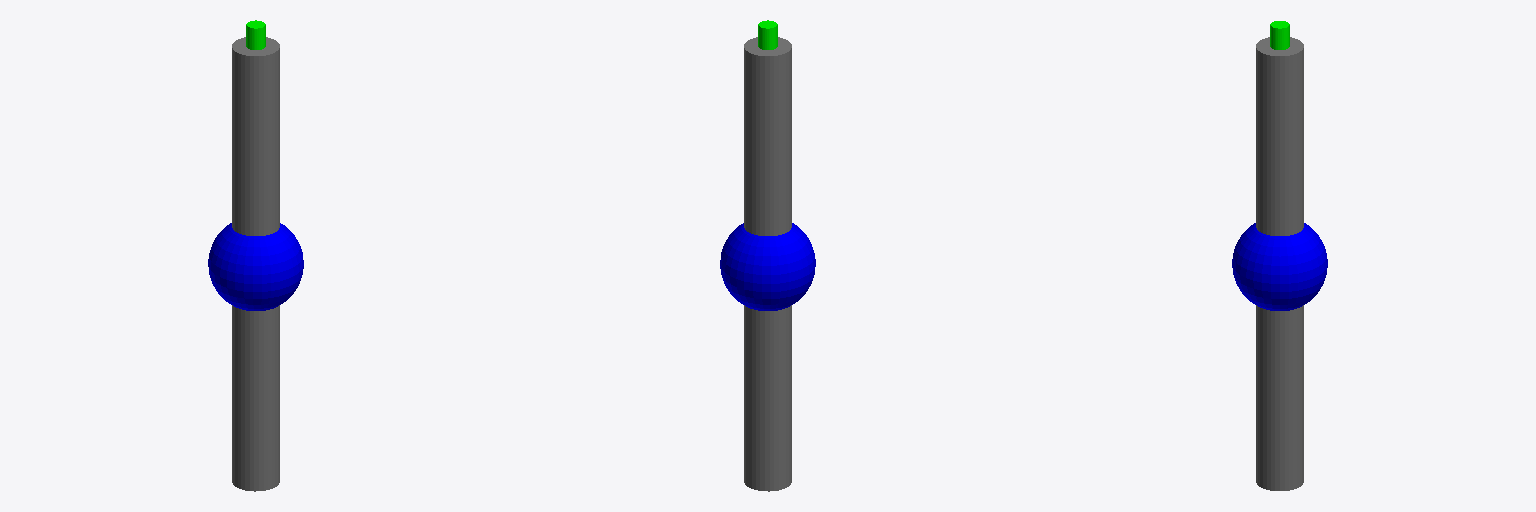
URDF robot description (3D_SLIP):
<?xml version="1.0"?>
<robot name="3D_SLIP">
  
  <!-- Body (mass at the top of the leg) -->
  <link name="body">
    <inertial>
      <mass value="1.0"/> <!-- Adjust mass as needed -->
      <inertia ixx="0.001" iyy="0.001" izz="0.001" ixy="0" ixz="0" iyz="0"/>
      <origin xyz="0 0 0"/>
    </inertial>
    <visual>
      <geometry>
        <sphere radius="0.1"/> <!-- Represents the body as a sphere -->
      </geometry>
      <material name="blue">
        <color rgba="0 0 1 1"/>
      </material>
    </visual>
    <collision>
      <geometry>
        <sphere radius="0.1"/>
      </geometry>
    </collision>
  </link>

  <!-- Leg -->
  <link name="leg">
    <visual>
      <geometry>
        <cylinder length="1.0" radius="0.05"/> <!-- Adjust leg length and radius -->
      </geometry>
      <material name="gray">
        <color rgba="0.5 0.5 0.5 1"/>
      </material>
    </visual>
    <collision>
      <geometry>
        <cylinder length="1.0" radius="0.05"/>
      </geometry>
    </collision>
  </link>

  <!-- Spring -->
  <link name="spring">
    <visual>
      <geometry>
        <cylinder length="1.0" radius="0.02"/> <!-- Adjust spring length and radius -->
      </geometry>
      <material name="green">
        <color rgba="0 1 0 1"/>
      </material>
    </visual>
  </link>

  <!-- Body to Leg joint -->
  <joint name="body_to_leg" type="continuous">
    <parent link="body"/>
    <child link="leg"/>
    <origin xyz="0 0 0" rpy="0 0 0"/>
    <axis xyz="0 1 0"/> <!-- Allows leg rotation -->
    <limit lower="-3.14159" upper="3.14159" effort="0" velocity="0"/>
  </joint>

  <!-- Leg to Ground Joint (Leg anchor point) -->
  <joint name="leg_to_ground" type="prismatic">
    <parent link="leg"/>
    <child link="spring"/>
    <origin xyz="0 0 -0.5" rpy="0 0 0"/>
    <axis xyz="0 0 1"/> <!-- Movement along z-axis -->
    <limit lower="0.1" upper="1.0" effort="1000" velocity="1.0"/> <!-- Prismatic movement constraints -->
  </joint>

  <!-- Foot (Contact point at the base of the leg) -->
  <link name="foot">
    <visual>
      <geometry>
        <sphere radius="0.05"/> <!-- Foot represented as a small sphere -->
      </geometry>
      <material name="red">
        <color rgba="1 0 0 1"/>
      </material>
    </visual>
    <collision>
      <geometry>
        <sphere radius="0.05"/>
      </geometry>
    </collision>
  </link>

  <!-- Spring to Foot Joint -->
  <joint name="spring_to_foot" type="fixed">
    <parent link="spring"/>
    <child link="foot"/>
    <origin xyz="0 0 -0.5" rpy="0 0 0"/>
  </joint>

</robot>

--- Facts derived from the render (not from the file) ---
3 views of the same robot in one strip: view 1: azimuth 30°, elevation 25°; view 2: azimuth 150°, elevation 25°; view 3: azimuth 270°, elevation 25° (orthographic).
Robot: 3D_SLIP — 4 links, 3 joints (1 continuous, 1 prismatic, 1 fixed); root link body; default pose: joints at zero except 1 at the middle of their limits (leg_to_ground = 0.55).
Visible links, largest first — view 1: leg, body, spring; view 2: leg, body, spring; view 3: leg, body, spring.
Link boxes in pixels (<box>): leg: <box>232,37,279,491</box>; body: <box>208,223,303,310</box>; spring: <box>246,20,265,49</box>; leg: <box>744,37,791,491</box>; body: <box>720,223,815,310</box>; spring: <box>758,20,777,49</box>; leg: <box>1256,37,1303,490</box>; body: <box>1232,223,1327,310</box>; spring: <box>1270,21,1289,49</box>.
Bounding box of the posed robot: 0.2 × 0.2 × 1.05 m (x, y, z).
Geometry: primitives only (box / cylinder / sphere), no mesh files.